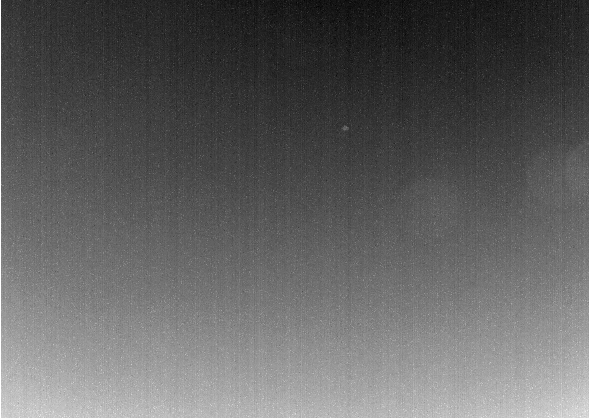dim target: (341, 125, 349, 131)
